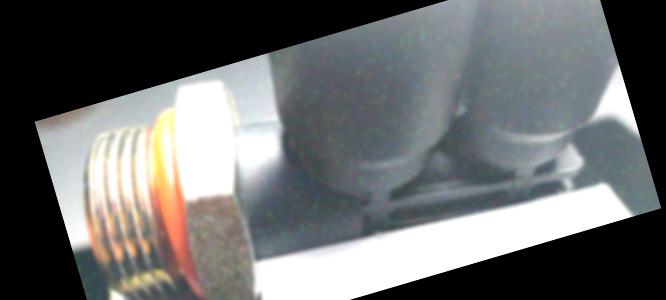joint line: (254, 130, 283, 148)
white mark: (233, 134, 255, 149)
